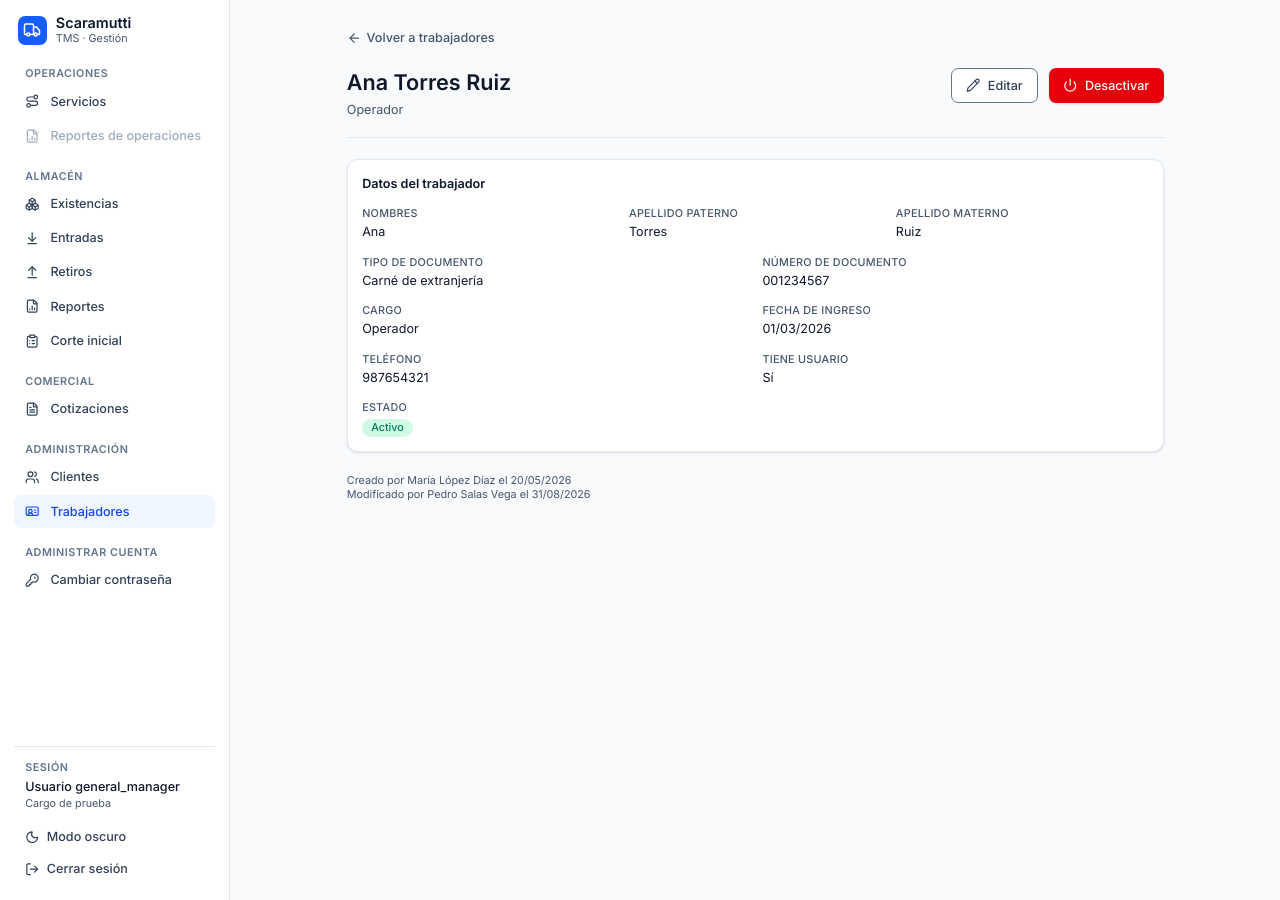
Test: router - URL viejas y la raíz del dominio › padrón de trabajadores › desde la ficha, "Editar" abre la edición del mismo trabajador
This screenshot has width=1280, height=900.
Click the link "Editar" at (994, 86), box [951, 68, 1038, 103]
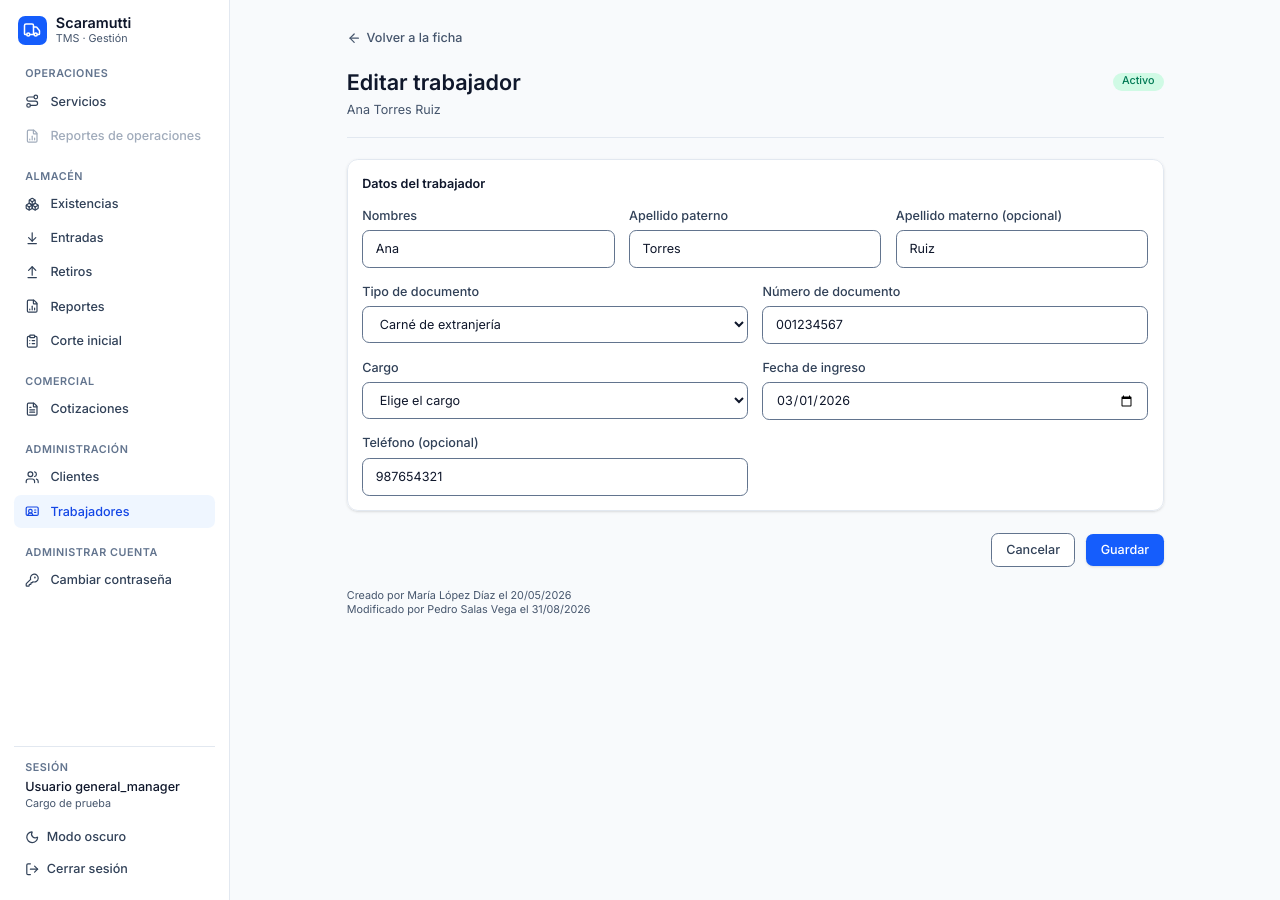
Now the heading "Editar trabajador" is shown, box [347, 68, 521, 97]
